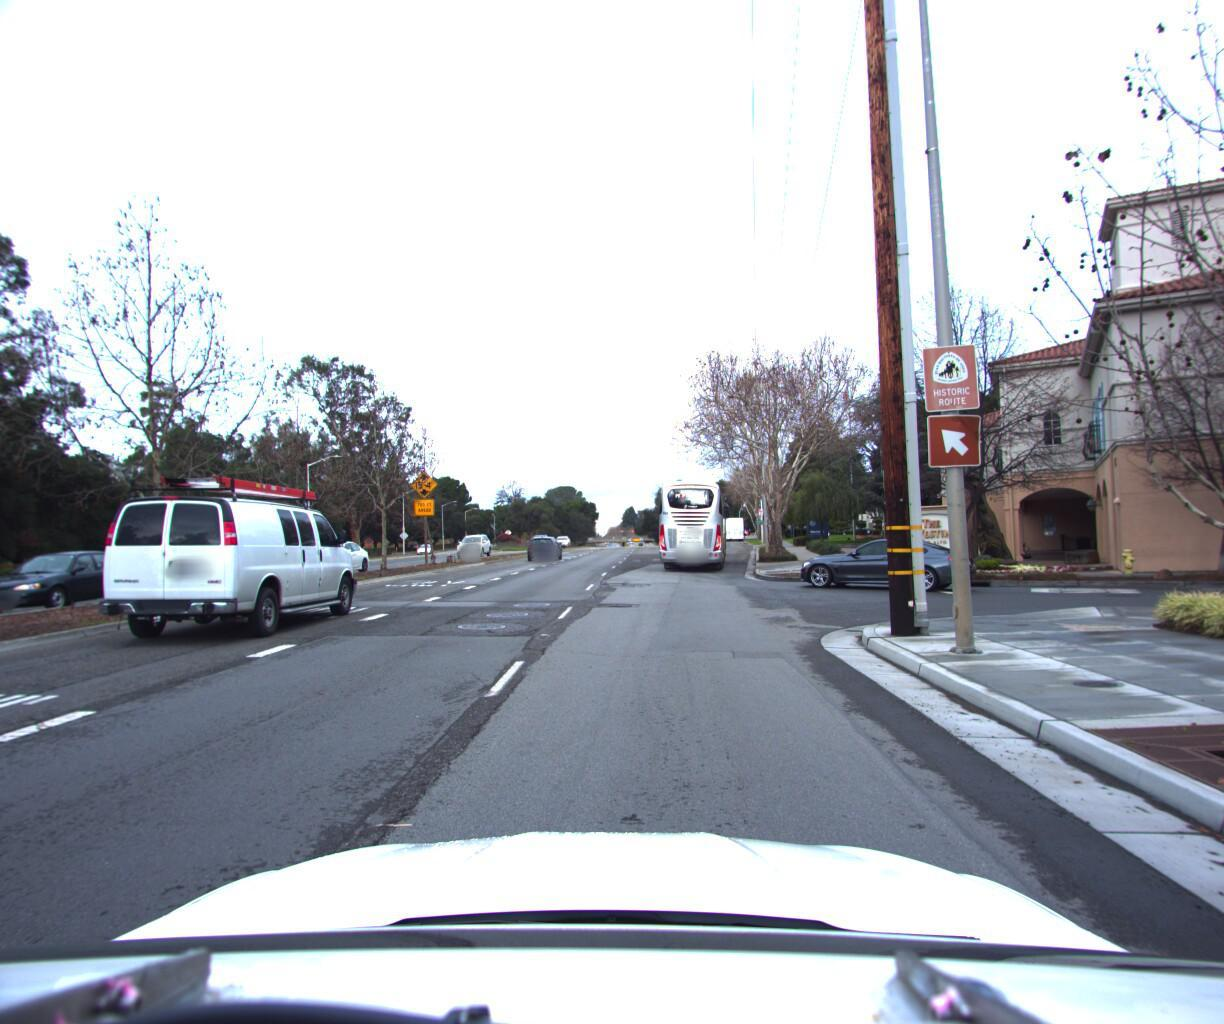bus: (651, 466, 733, 568)
car: (76, 462, 371, 650), (786, 525, 986, 588), (283, 532, 376, 577), (454, 527, 496, 554), (526, 528, 562, 555)
